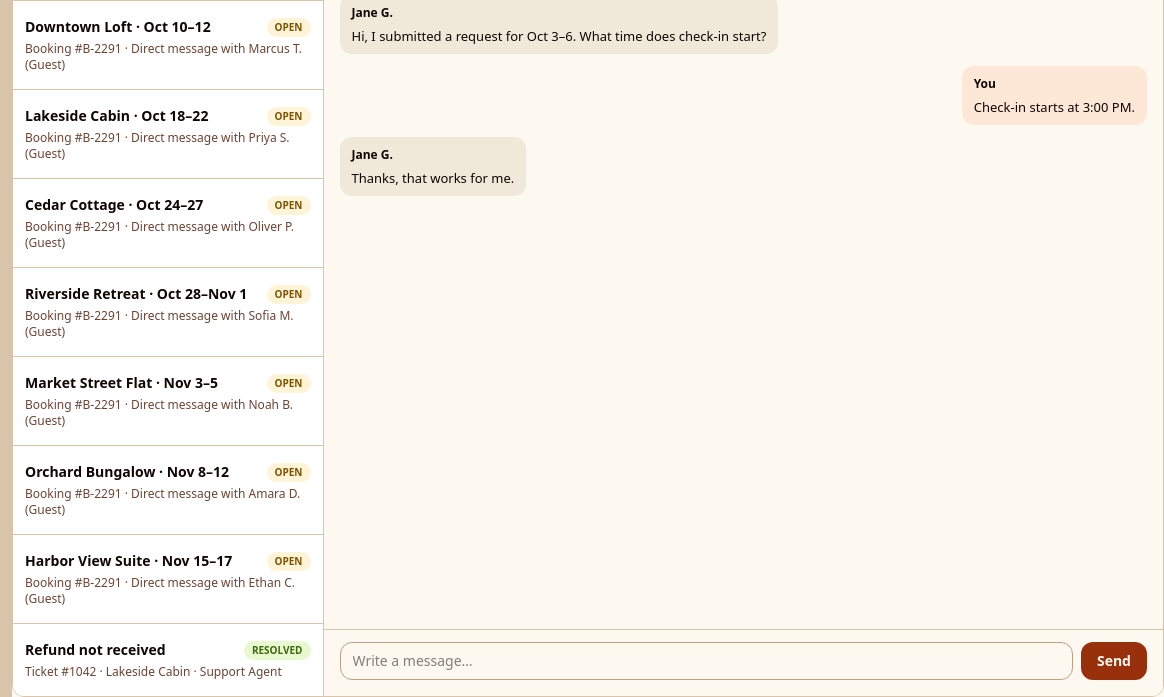
Host messages and wallet › sends a message when Enter is pressed in the composer
(page scrolled)
Type "Sent with Enter" into the field with placeholder "Write a message…" at (706, 661), box [340,642,1073,680]
Then press Enter
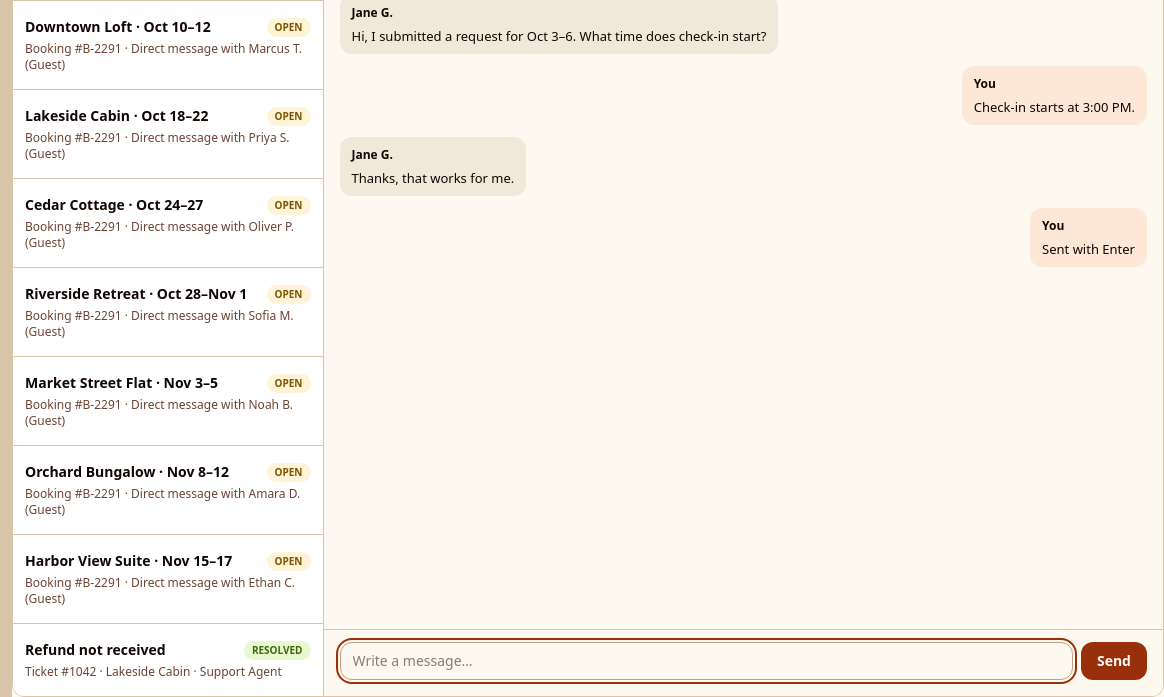
Result: the text "Sent with Enter" is shown at [1042,240,1135,259]
